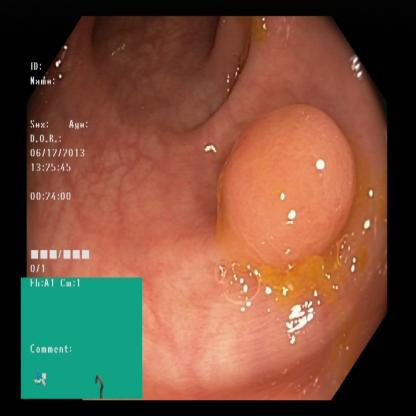Labels: (28, 55, 98, 275), (22, 274, 143, 397)
Polyps: (221, 111, 356, 263)
